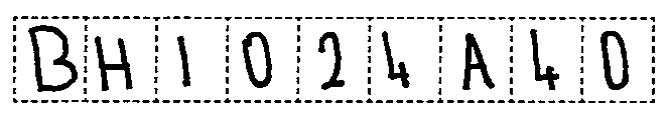0: (593, 25, 637, 94), (239, 27, 278, 91)
1: (166, 30, 204, 88)
2: (314, 29, 350, 94)
4: (526, 26, 564, 94), (375, 26, 415, 90)
A: (457, 28, 498, 93)
B: (25, 21, 82, 96)
H: (90, 30, 139, 96)
